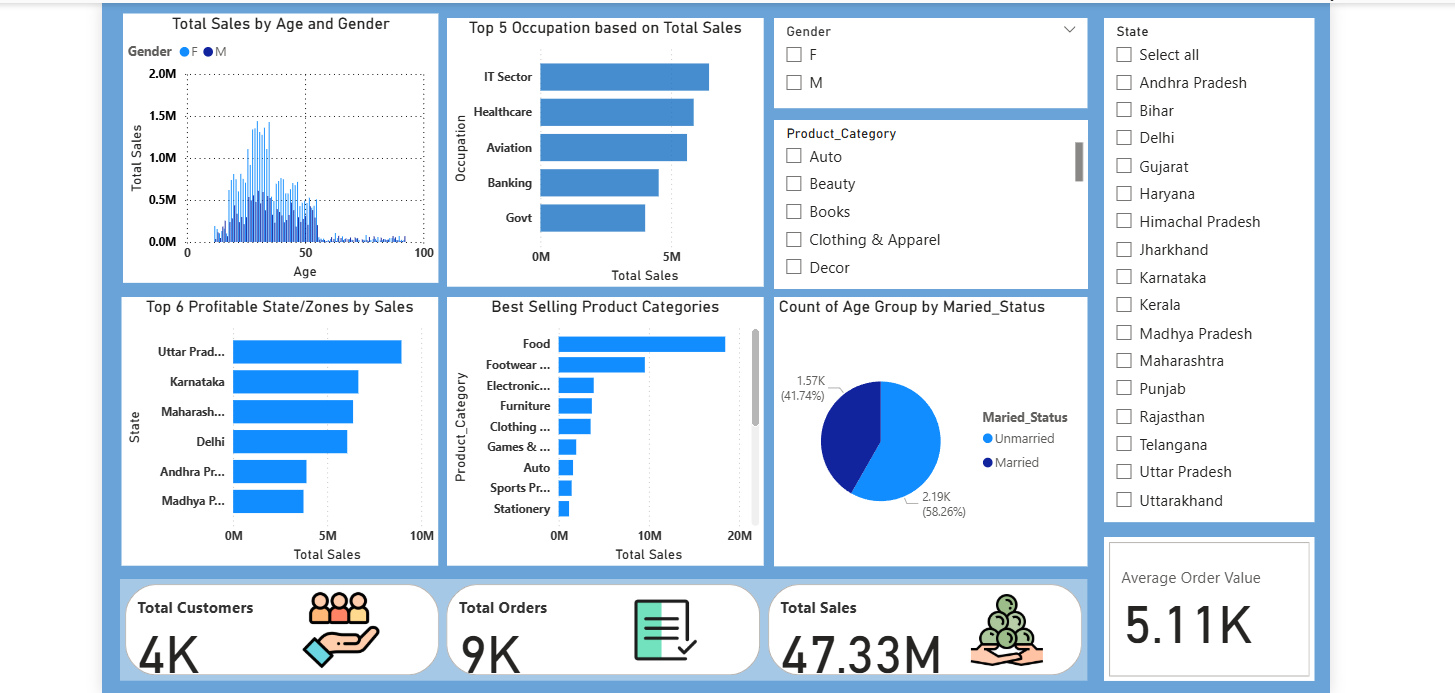

This screenshot's page, from the dashboard's own definition file:
{"tool":"powerbi","page":{"name":"Page 1","canvas":[1280,720],"ordinal":0},"visuals":[{"type":"clusteredColumnChart","fields":{"Category":["Diwali Sales Data.Age"],"Y":["Diwali Sales Data.Total Sales"],"Series":["Diwali Sales Data.Gender"]},"box":[21.2,11.5,328.8,280.8],"z":0},{"type":"barChart","title":"Top 6 Profitable State/Zones by Sales","fields":{"Category":["Diwali Sales Data.State"],"Y":["Diwali Sales Data.Total Sales"]},"box":[20,306,330,280],"z":1},{"type":"clusteredBarChart","title":"Top 5 Occupation based on Total Sales","fields":{"Category":["Diwali Sales Data.Occupation"],"Y":["Diwali Sales Data.Total Sales"]},"box":[360,16,330,280],"z":2},{"type":"barChart","title":"Best Selling Product Categories","fields":{"Category":["Diwali Sales Data.Product_Category"],"Y":["Diwali Sales Data.Total Sales"]},"box":[360,306,330,280],"z":3},{"type":"slicer","fields":{"Values":["Diwali Sales Data.Gender"]},"box":[700,15.4,326.9,94.2],"z":4},{"type":"slicer","fields":{"Values":["Diwali Sales Data.State"]},"box":[1044.2,15.4,219.2,525],"z":5},{"type":"slicer","fields":{"Values":["Diwali Sales Data.Product_Category"]},"box":[700,121.2,326.9,175],"z":6},{"type":"pieChart","fields":{"Category":["Diwali Sales Data.Maried_Status"],"Y":["CountNonNull(Diwali Sales Data.Age Group)"]},"box":[700,305.8,326.9,280.8],"z":7},{"type":"cardVisual","fields":{"Data":["Diwali Sales Data.Total Customers","Diwali Sales Data.Total Orders","Diwali Sales Data.Total Sales"]},"box":[19.2,600,1007.7,105.8],"z":8},{"type":"cardVisual","fields":{"Data":["Diwali Sales Data.Average Order Value"]},"box":[1044.2,555.8,219.2,150],"z":9},{"type":"image","box":[863.5,607.7,159.6,90.4],"z":10},{"type":"image","box":[184.6,607.7,128.8,90.4],"z":11},{"type":"image","box":[525,607.7,123.1,90.4],"z":12}]}

Visuals, with their boxes in screenshot pixels (x1, y1, x2, y2):
clusteredColumnChart - Diwali Sales Data.Age x Diwali Sales Data.Total Sales: bbox=(126, 15, 438, 281)
"Top 6 Profitable State/Zones by Sales" barChart: bbox=(125, 294, 438, 560)
"Top 5 Occupation based on Total Sales" clusteredBarChart: bbox=(448, 19, 761, 285)
"Best Selling Product Categories" barChart: bbox=(448, 294, 761, 560)
slicer - Diwali Sales Data.Gender: bbox=(771, 18, 1081, 108)
slicer - Diwali Sales Data.State: bbox=(1098, 18, 1306, 517)
slicer - Diwali Sales Data.Product_Category: bbox=(771, 119, 1081, 285)
pieChart - Diwali Sales Data.Maried_Status x CountNonNull(Diwali Sales Data.Age Group): bbox=(771, 294, 1081, 561)
cardVisual - Diwali Sales Data.Total Customers x Diwali Sales Data.Total Orders: bbox=(124, 574, 1081, 674)
cardVisual - Diwali Sales Data.Average Order Value: bbox=(1098, 532, 1306, 674)
image: bbox=(926, 581, 1078, 667)
image: bbox=(281, 581, 404, 667)
image: bbox=(605, 581, 722, 667)
